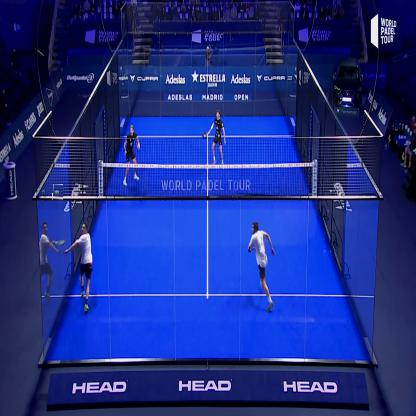ball: (53, 184, 64, 201)
